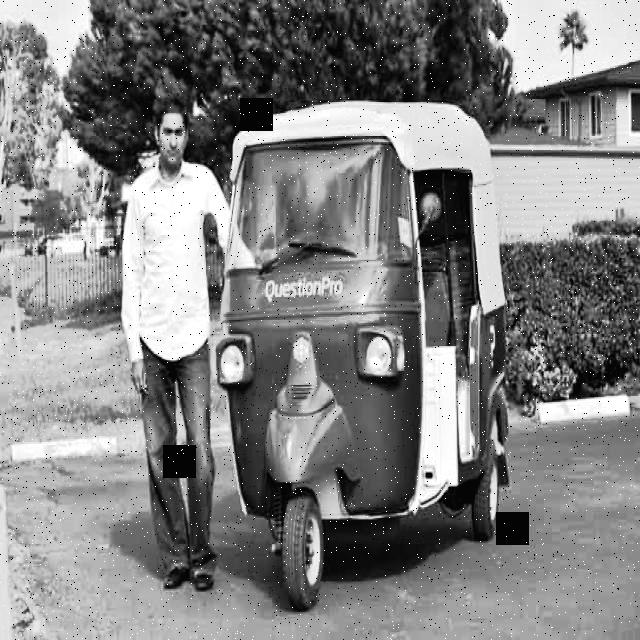Auto-Rickshaw: (204, 88, 530, 609)
